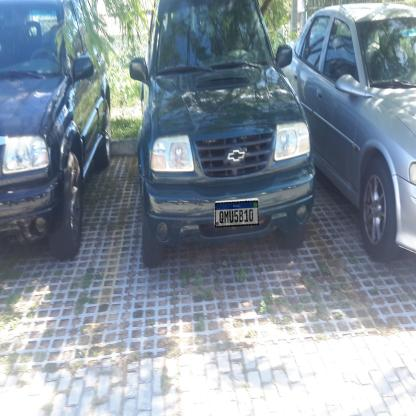PlacaM: (214, 200, 258, 228)
